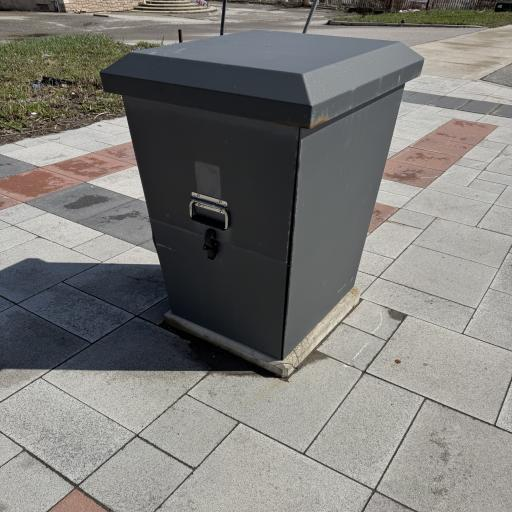Electrical Box: (96, 26, 428, 358)
